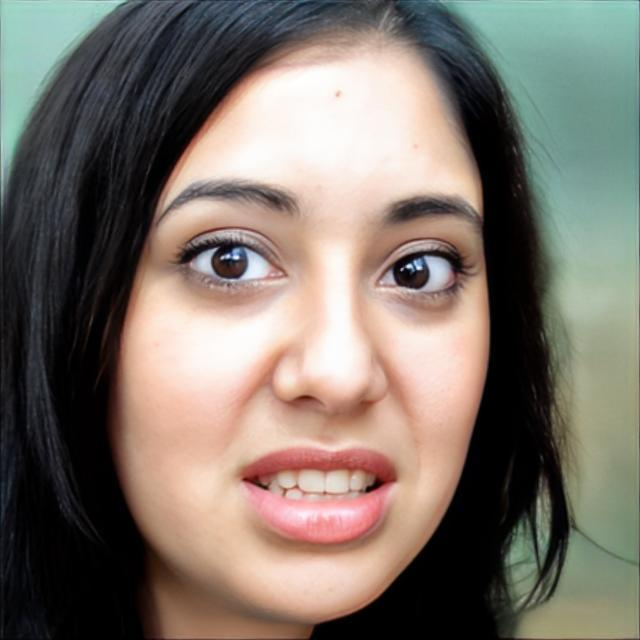disgust: (111, 22, 492, 630)
